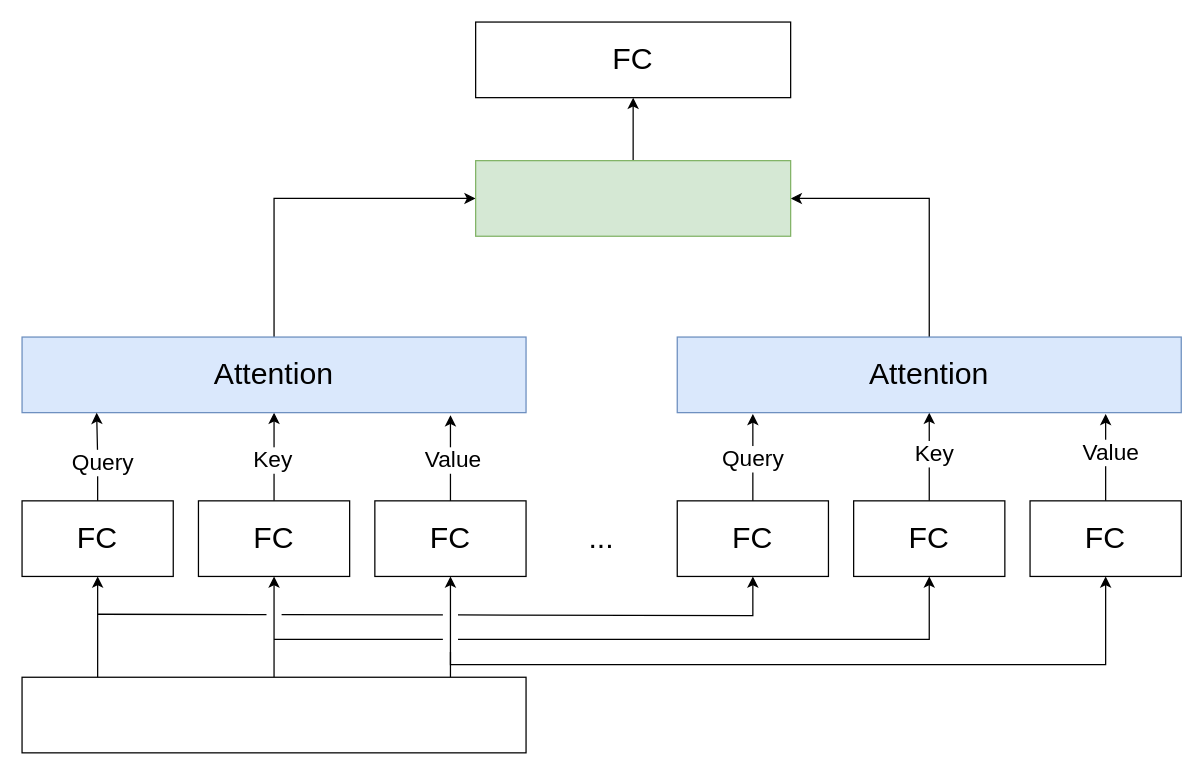
The diagram is 1203 pixels wide and 775 high, and some of its shapes have lost their labels. Each missing label, with the box of its shape:
Concat: (474, 159, 791, 236)
Embedding 输入: (21, 676, 526, 753)
